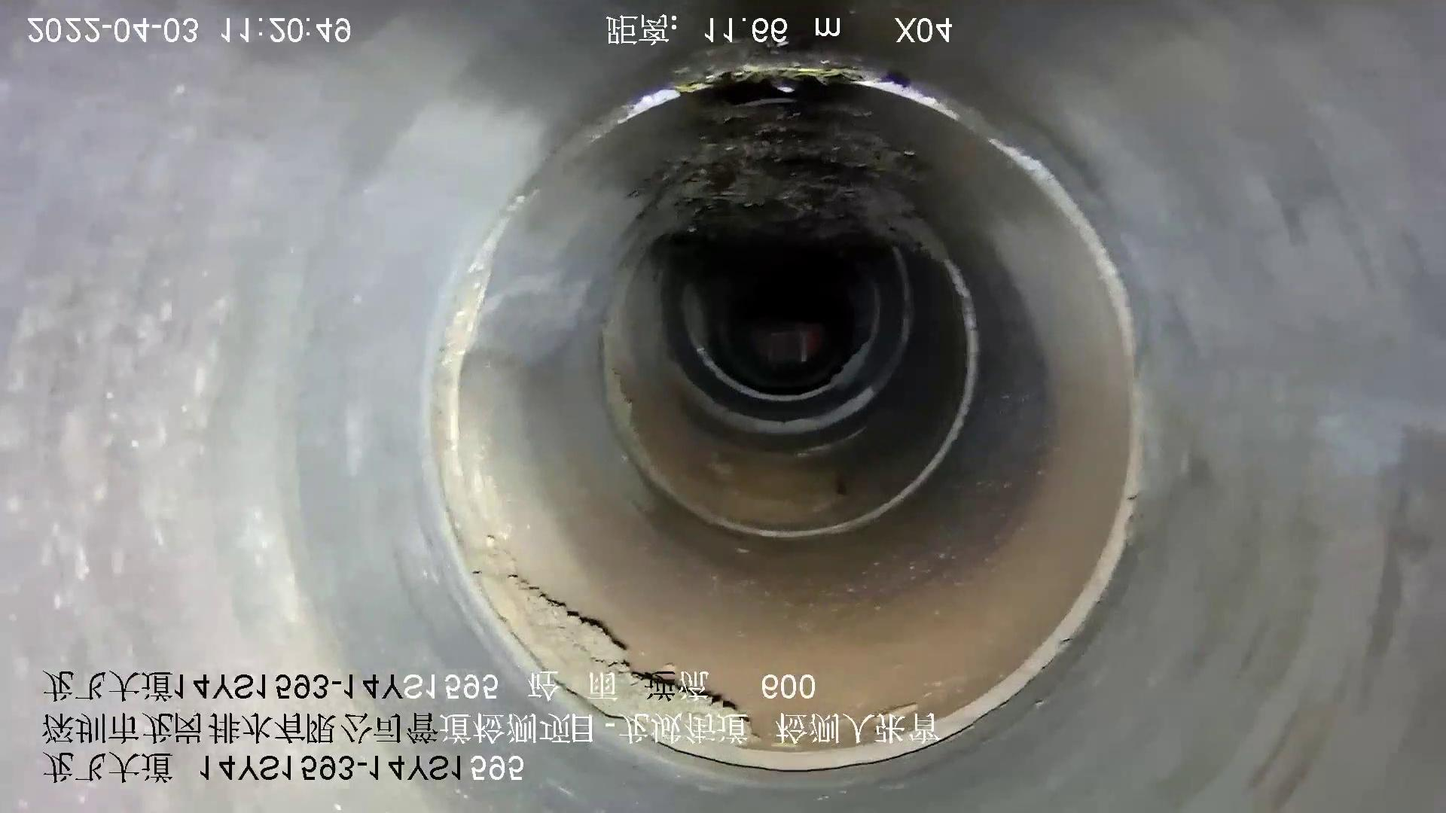CJ: (645, 75, 924, 240)
CKTJ: (429, 59, 1141, 772), (601, 242, 980, 538), (673, 248, 914, 435), (680, 277, 882, 403)
